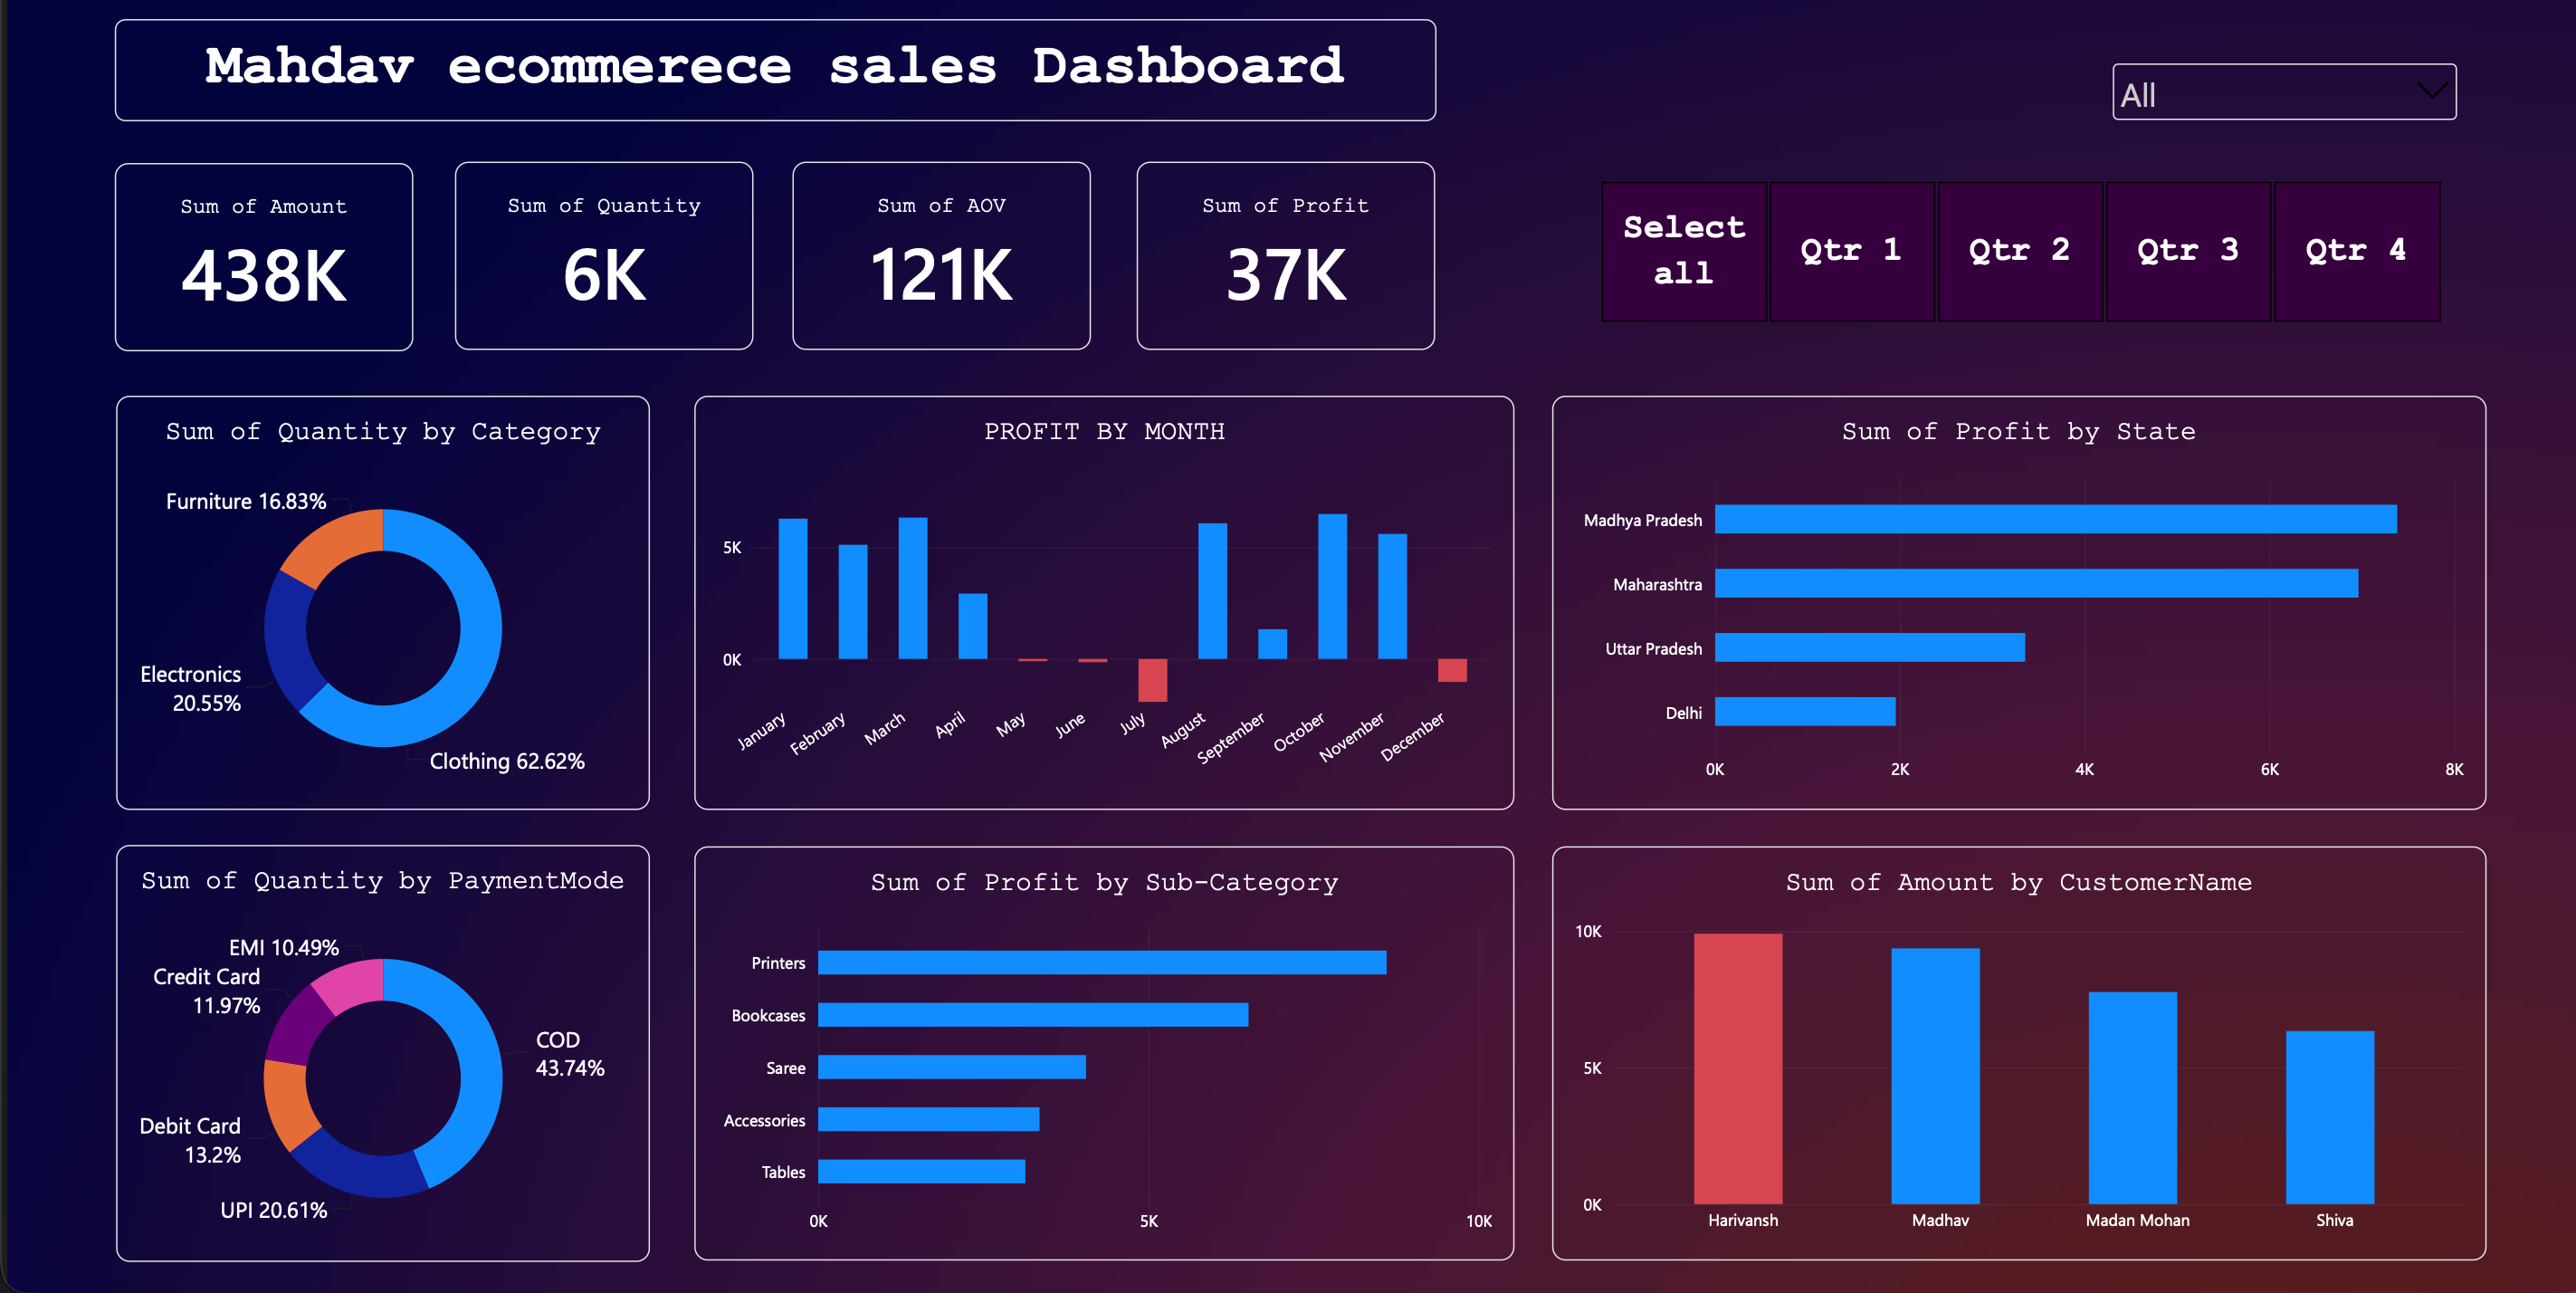

This screenshot's page, from the dashboard's own definition file:
{"tool":"powerbi","page":{"name":"Page 1","canvas":[1920,1080],"ordinal":0},"visuals":[{"type":"textbox","box":[80.3,53,983.3,75.8],"z":0},{"type":"columnChart","title":"PROFIT BY MONTH","fields":{"Category":["Orders.Order Date.Variation.Date Hierarchy.Month"],"Y":["Sum(Details.Profit)"]},"box":[511.1,332.5,610.4,308.3],"z":1000},{"type":"barChart","fields":{"Category":["Details.Sub-Category"],"Y":["Sum(Details.Profit)"]},"box":[511.2,667.8,610.4,308.3],"z":2000},{"type":"donutChart","fields":{"Category":["Details.Category"],"Y":["Sum(Details.Quantity)"]},"box":[80.8,332.9,397.3,308.2],"z":3000},{"type":"donutChart","fields":{"Category":["Details.PaymentMode"],"Y":["Sum(Details.Quantity)"]},"box":[80.8,667.1,397.3,309.6],"z":4000},{"type":"cardVisual","fields":{"Data":["Sum(Details.Amount)"]},"box":[80,160,222.2,140],"z":5000},{"type":"cardVisual","fields":{"Data":["Sum(Details.Quantity)"]},"box":[333.3,159.4,222.2,140],"z":6000},{"type":"cardVisual","fields":{"Data":["Sum(Details.Profit)"]},"box":[840,159.4,222.2,140],"z":7000},{"type":"cardVisual","fields":{"Data":["Sum(Details.AOV)"]},"box":[584.4,159.4,222.2,140],"z":8000},{"type":"barChart","fields":{"Category":["Orders.State"],"Y":["Sum(Details.Profit)"]},"box":[1148.6,332.5,695,307.5],"z":9000},{"type":"clusteredColumnChart","fields":{"Category":["Orders.CustomerName"],"Y":["Sum(Details.Amount)"]},"box":[1148.6,667.5,695,307.5],"z":10000},{"type":"slicer","fields":{"Values":["Orders.Order Date.Variation.Date Hierarchy.Quarter"]},"box":[1148.9,155.6,695.6,140],"z":11000},{"type":"slicer","fields":{"Values":["Orders.State"]},"box":[1545.5,66.7,298.5,78.8],"z":12000}]}

Visuals, with their boxes on the page's 1920x1080 design canvas (x1, y1, x2, y2). These are canvas units, not pixel positions in the 2576x1293 screenshot, which may show the page scaled, cropped or inside an application window:
textbox: rect(80, 53, 1064, 129)
"PROFIT BY MONTH" columnChart: rect(511, 332, 1122, 641)
barChart - Details.Sub-Category x Sum(Details.Profit): rect(511, 668, 1122, 976)
donutChart - Details.Category x Sum(Details.Quantity): rect(81, 333, 478, 641)
donutChart - Details.PaymentMode x Sum(Details.Quantity): rect(81, 667, 478, 977)
cardVisual - Sum(Details.Amount): rect(80, 160, 302, 300)
cardVisual - Sum(Details.Quantity): rect(333, 159, 556, 299)
cardVisual - Sum(Details.Profit): rect(840, 159, 1062, 299)
cardVisual - Sum(Details.AOV): rect(584, 159, 807, 299)
barChart - Orders.State x Sum(Details.Profit): rect(1149, 332, 1844, 640)
clusteredColumnChart - Orders.CustomerName x Sum(Details.Amount): rect(1149, 668, 1844, 975)
slicer - Orders.Order Date.Variation.Date Hierarchy.Quarter: rect(1149, 156, 1844, 296)
slicer - Orders.State: rect(1546, 67, 1844, 146)
